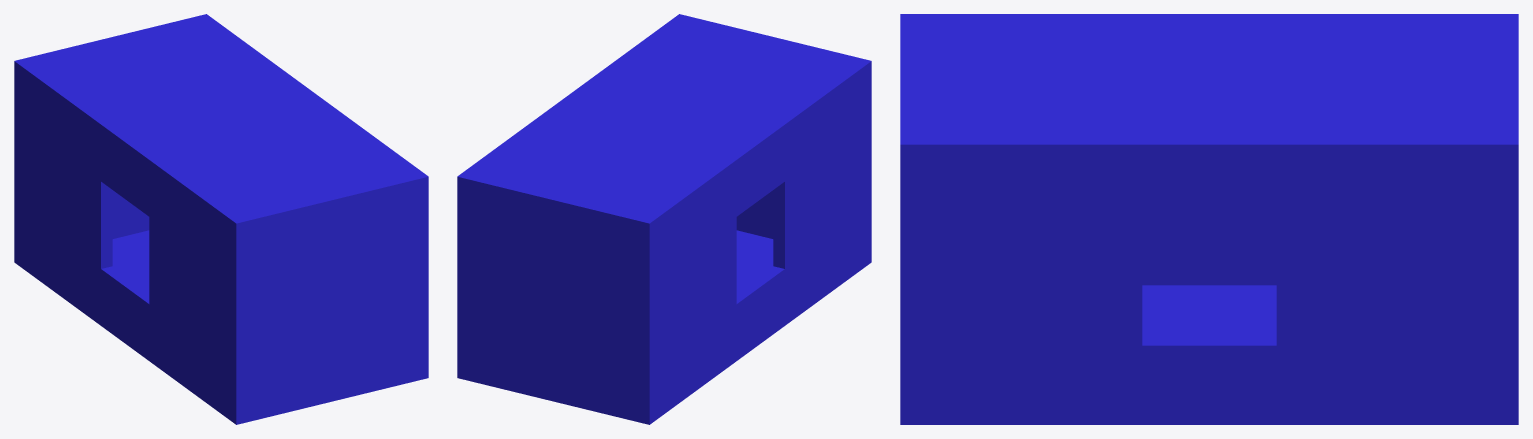
The model's file is dummySpaceship.gltf.
3 views of the same model, side by side, from view 1: azimuth 30°, elevation 25°; view 2: azimuth 150°, elevation 25°; view 3: azimuth 270°, elevation 25° (orthographic). The views are drawn at different scales.
Parts seen in each view (by area): view 1: Cube; view 2: Cube; view 3: Cube.
Boxes of the visible parts, left/top/right/bottom form: Cube: left=14, top=14, right=428, bottom=424; Cube: left=457, top=14, right=871, bottom=424; Cube: left=900, top=14, right=1518, bottom=424.
Bounding box in the file's own units: 15.12 × 15.12 × 30.23.
